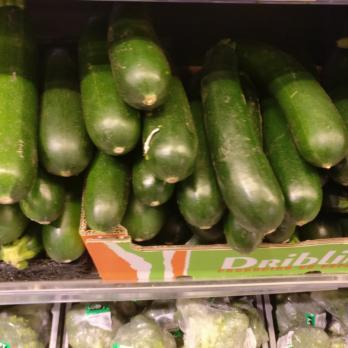Cucumber: (0, 1, 348, 244)
